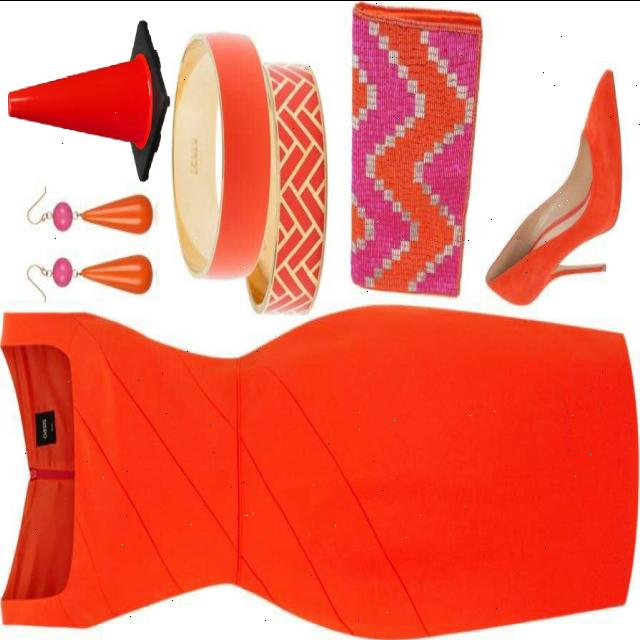traffic cone: (6, 8, 173, 188)
